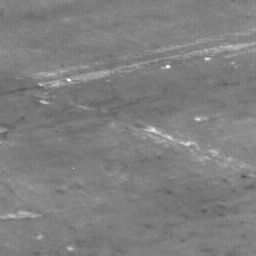aircraft: (68, 80, 70, 82)
